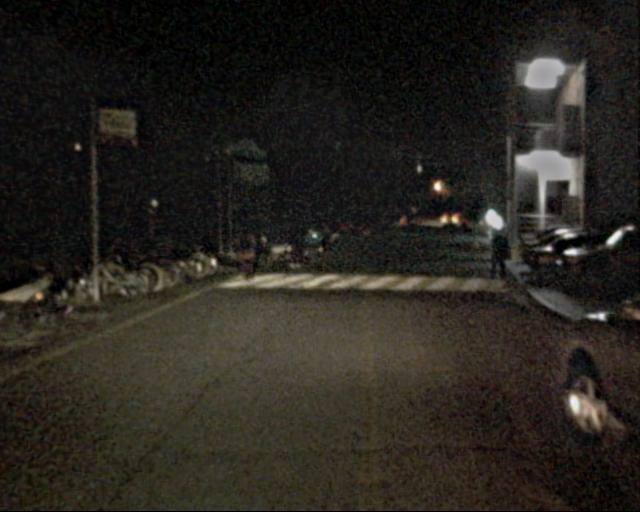person: (482, 227, 509, 293), (231, 226, 255, 284), (282, 222, 300, 267)
